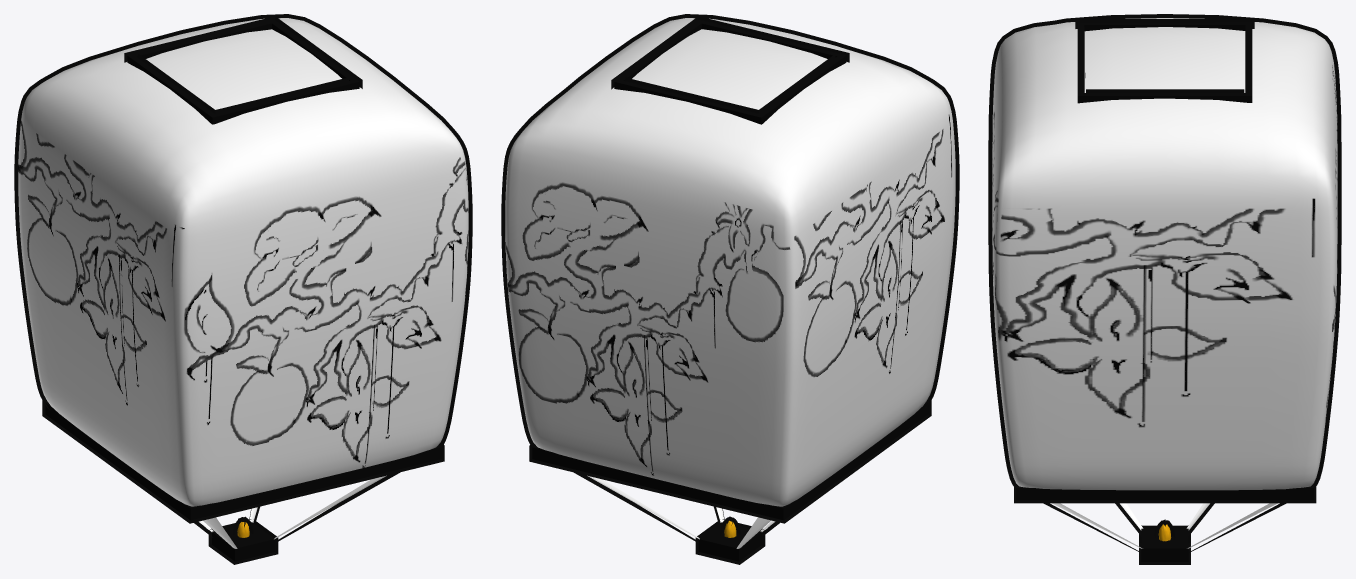
Rendered from lanterns.glb.
3 views of the same model, side by side, from view 1: azimuth 30°, elevation 25°; view 2: azimuth 150°, elevation 25°; view 3: azimuth 270°, elevation 25° (orthographic). The views are drawn at different scales.
Parts seen in each view (by area): view 1: lantern; view 2: lantern; view 3: lantern.
Part boxes in pixels (bbox=[...]): lantern: bbox=[14, 14, 472, 564]; lantern: bbox=[501, 14, 959, 564]; lantern: bbox=[988, 14, 1341, 564].
Size of the model in its own units: 0.178 by 0.2764 by 0.1763.
4 materials, 1 textured.
